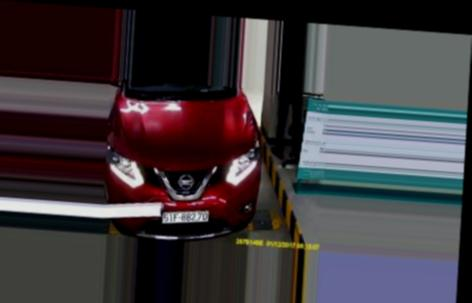License_Plate: (161, 209, 212, 228)
